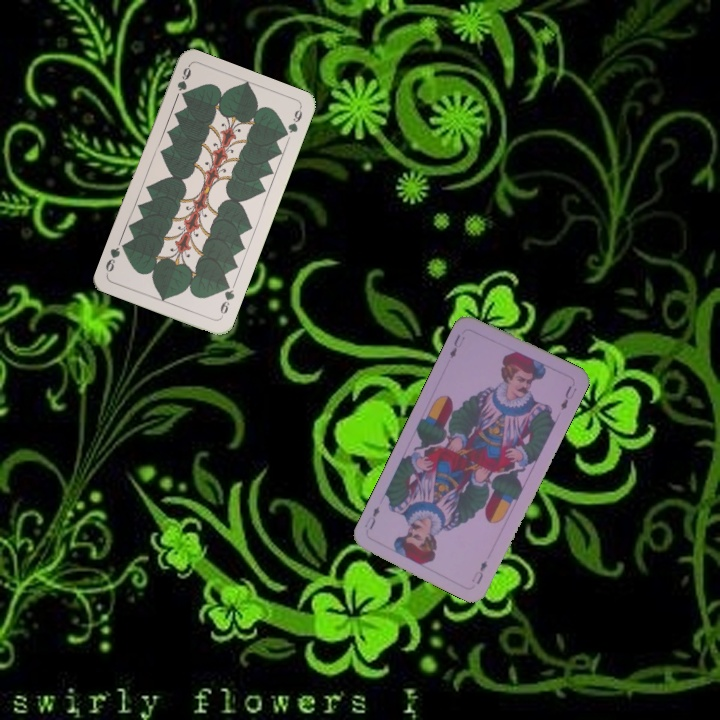EU: (467, 556, 490, 587), (445, 330, 467, 361)
G9: (216, 279, 237, 320), (173, 62, 194, 100)
